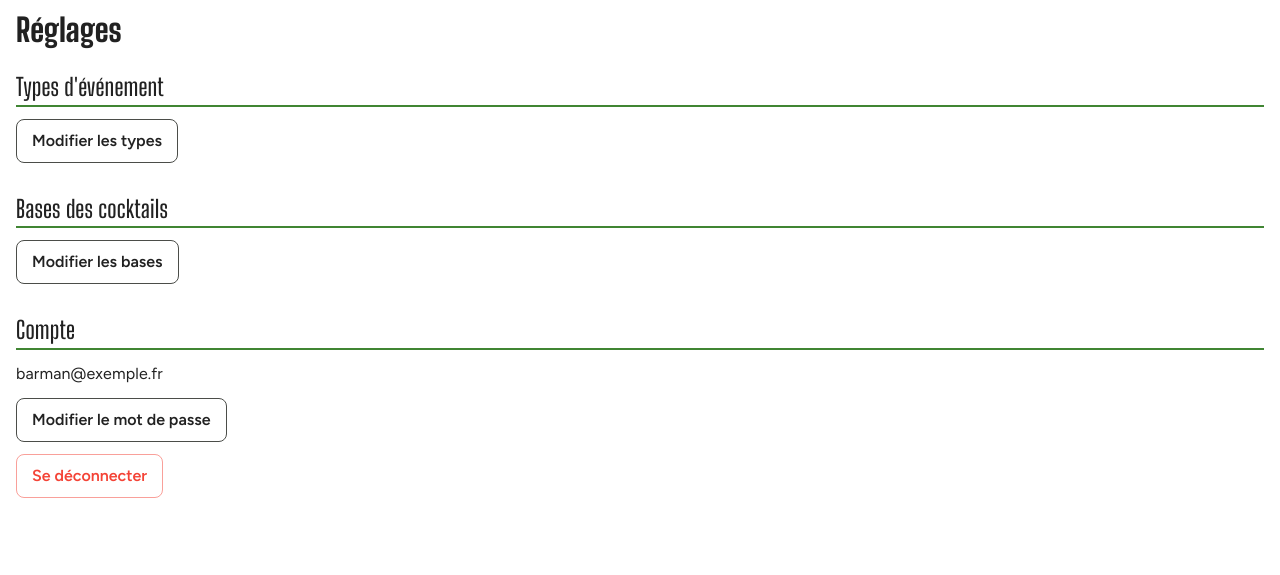
it: EcranReglages › dit que la déconnexion a échoué si elle lève une erreur
Step 1. Click the button "Se déconnecter" → (90,476), box [16,454,163,498]
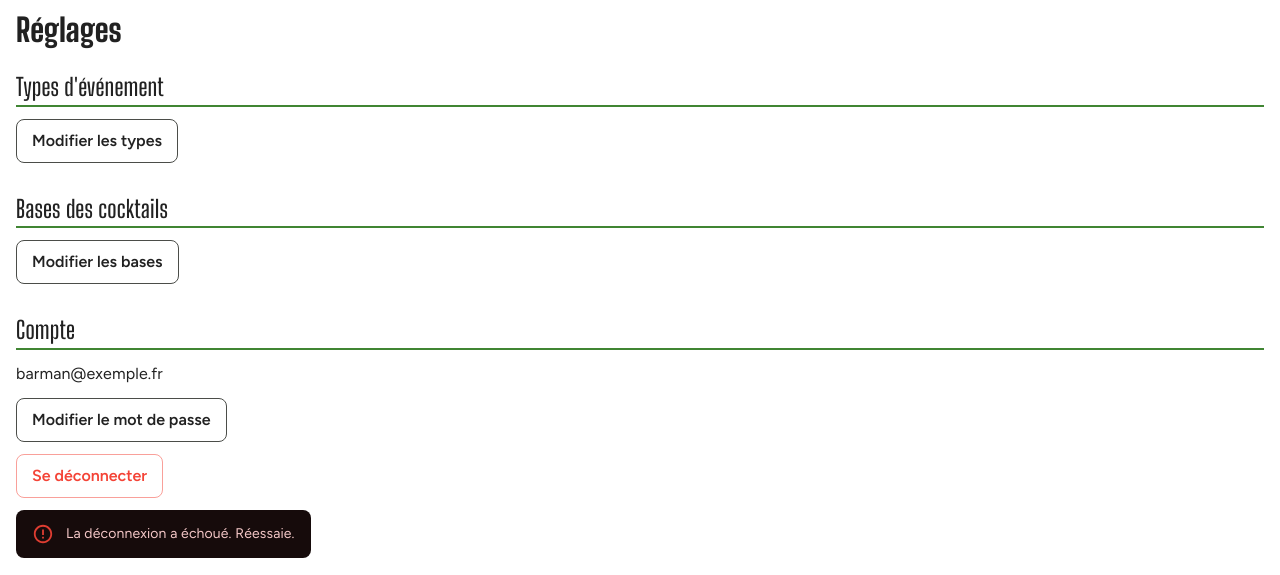
Now the message reads "La déconnexion a échoué. Réessaie.", box [66,525,295,542]
